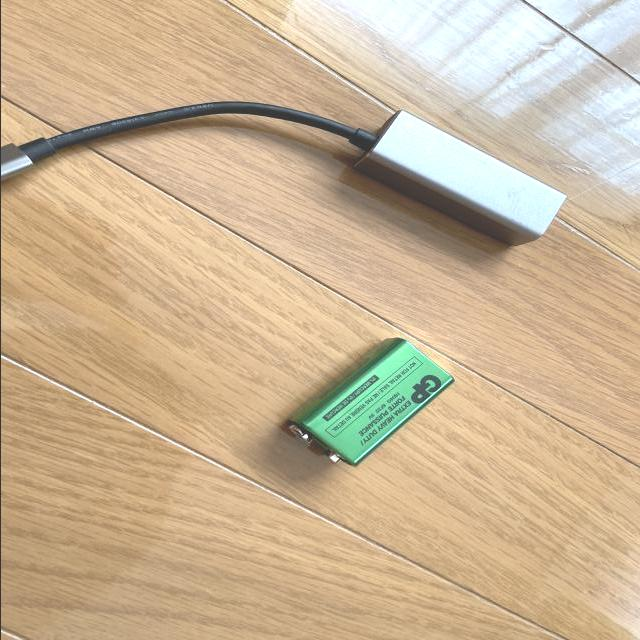9V: (292, 338, 453, 470)
